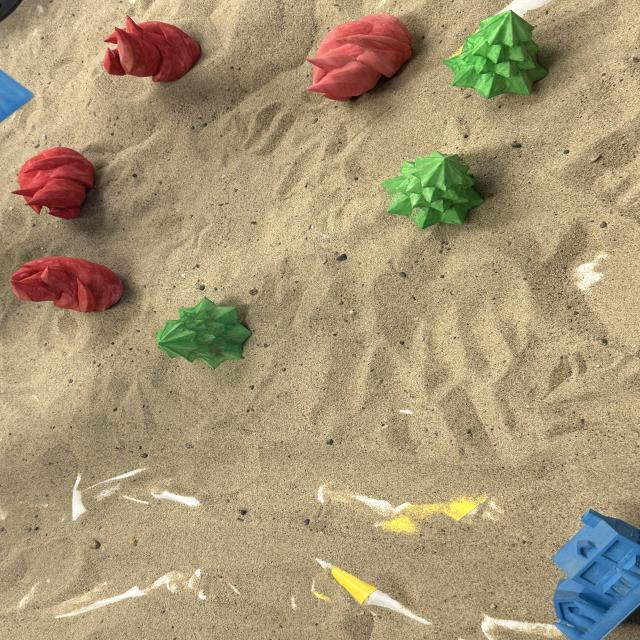fire: (304, 12, 413, 101), (101, 14, 202, 83), (9, 255, 125, 313), (11, 145, 97, 220)
house: (548, 507, 638, 639), (0, 68, 34, 122)
tree: (442, 9, 549, 99), (380, 149, 485, 230), (154, 296, 252, 370)
